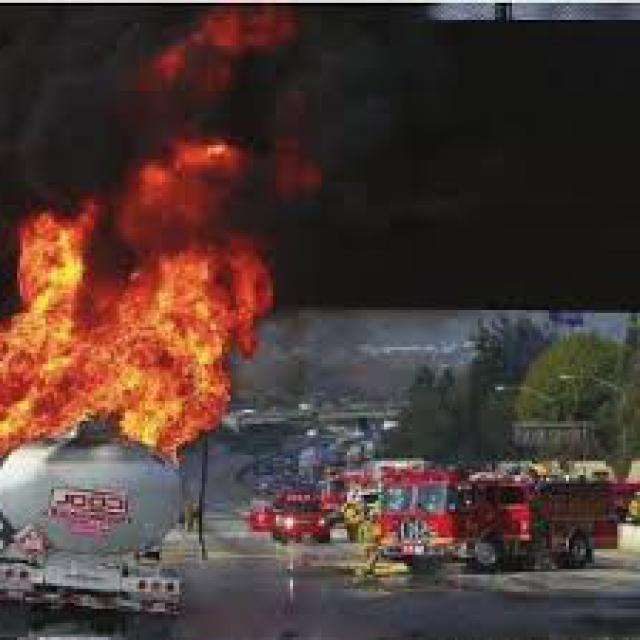Fire: (0, 142, 291, 496)
Smoke: (0, 7, 477, 260), (220, 316, 447, 428)
